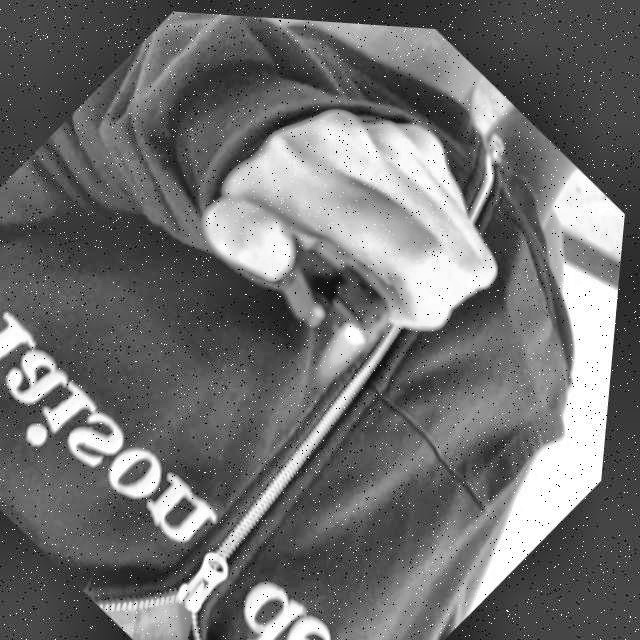Fire: (307, 306, 384, 386)
